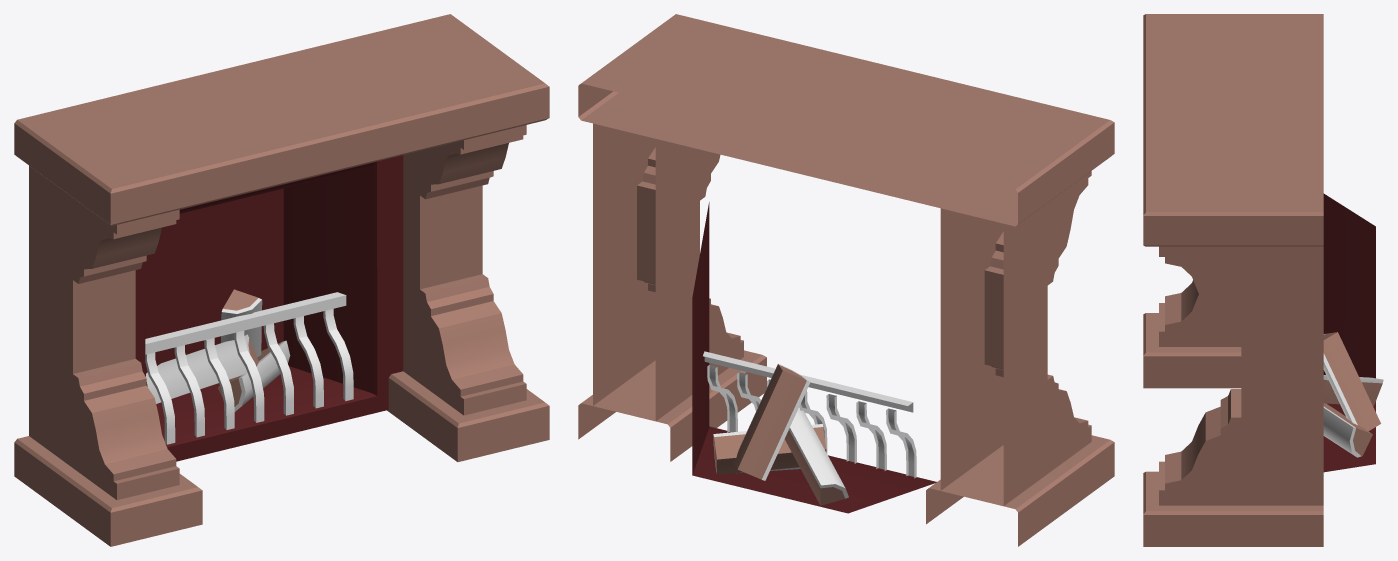
File: ACT2_Fireplace_fin.fbx
3 renders of one model, left to right at view 1: azimuth 30°, elevation 25°; view 2: azimuth 150°, elevation 25°; view 3: azimuth 270°, elevation 25°, orthographic. The views are drawn at different scales.
Visible parts, largest first — view 1: Fireplace_base, Metal.001, Metal, Log, Log.001, Log.002; view 2: Fireplace_base, Log.002, Metal.001, Log, Metal, Log.001; view 3: Fireplace_base, Log.002, Log.001, Log.
Boxes of the visible parts, x1,y1,x2,y2 form: Fireplace_base: (14, 14, 549, 546); Metal.001: (145, 309, 353, 444); Metal: (145, 292, 346, 354); Log: (146, 334, 258, 403); Log.001: (218, 340, 290, 411); Log.002: (221, 289, 262, 357); Fireplace_base: (578, 14, 1114, 546); Log.002: (733, 363, 810, 480); Metal.001: (707, 365, 916, 478); Log: (784, 408, 848, 505); Metal: (703, 351, 913, 412); Log.001: (713, 424, 826, 474); Fireplace_base: (1143, 14, 1375, 546); Log.002: (1323, 332, 1380, 431); Log.001: (1323, 403, 1372, 457); Log: (1323, 375, 1383, 406).
Size of the model in its own units: 142 by 110 by 71.78.
